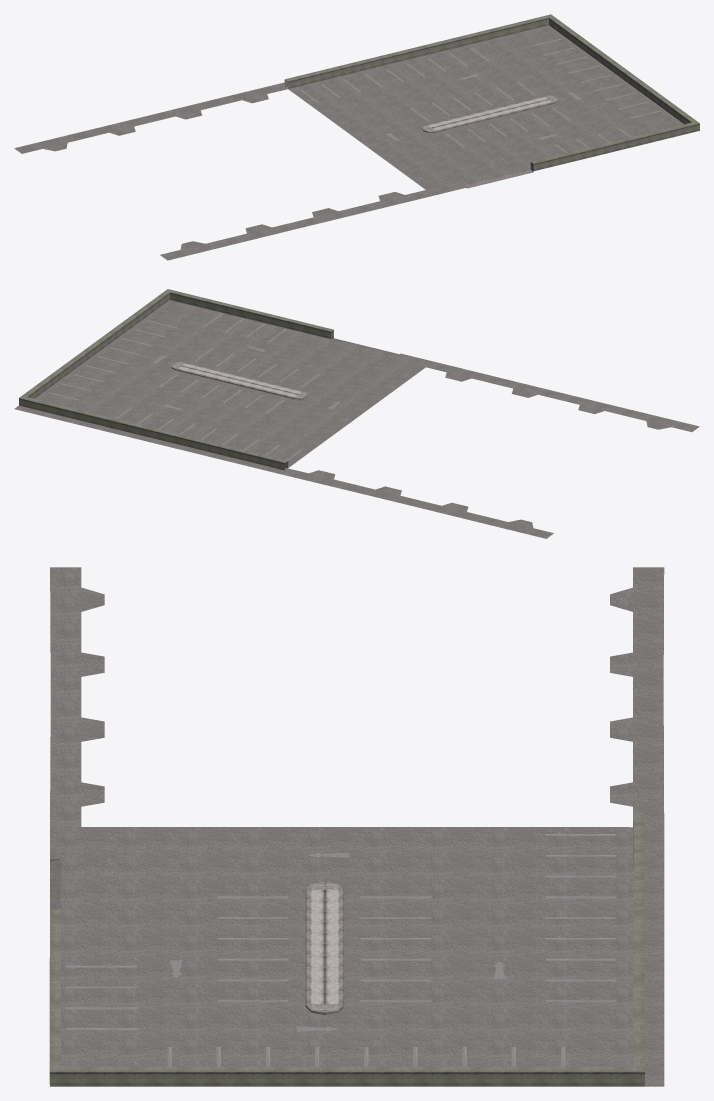
File: vgshpgrnd02_lvs.obj
The picture shows the model from 3 angles, top to bottom: view 1: azimuth 30°, elevation 25°; view 2: azimuth 150°, elevation 25°; view 3: azimuth 270°, elevation 25°; orthographic projection. The views are drawn at different scales.
Parts seen in each view (by area): view 1: vgshpgrnd02_lvS; view 2: vgshpgrnd02_lvS; view 3: vgshpgrnd02_lvS.
Part boxes in pixels (left/top/right/bottom): vgshpgrnd02_lvS: left=14, top=14, right=699, bottom=260; vgshpgrnd02_lvS: left=14, top=289, right=699, bottom=538; vgshpgrnd02_lvS: left=49, top=567, right=664, bottom=1086.
Bounding box in the file's own units: 80.02 × 1.23 × 40.03.
5 materials, 5 textured.
